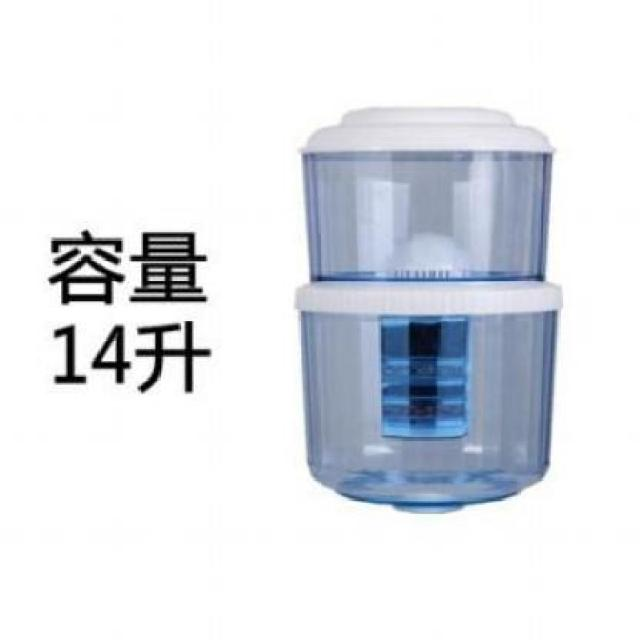coolerbottle: (292, 102, 568, 516)
